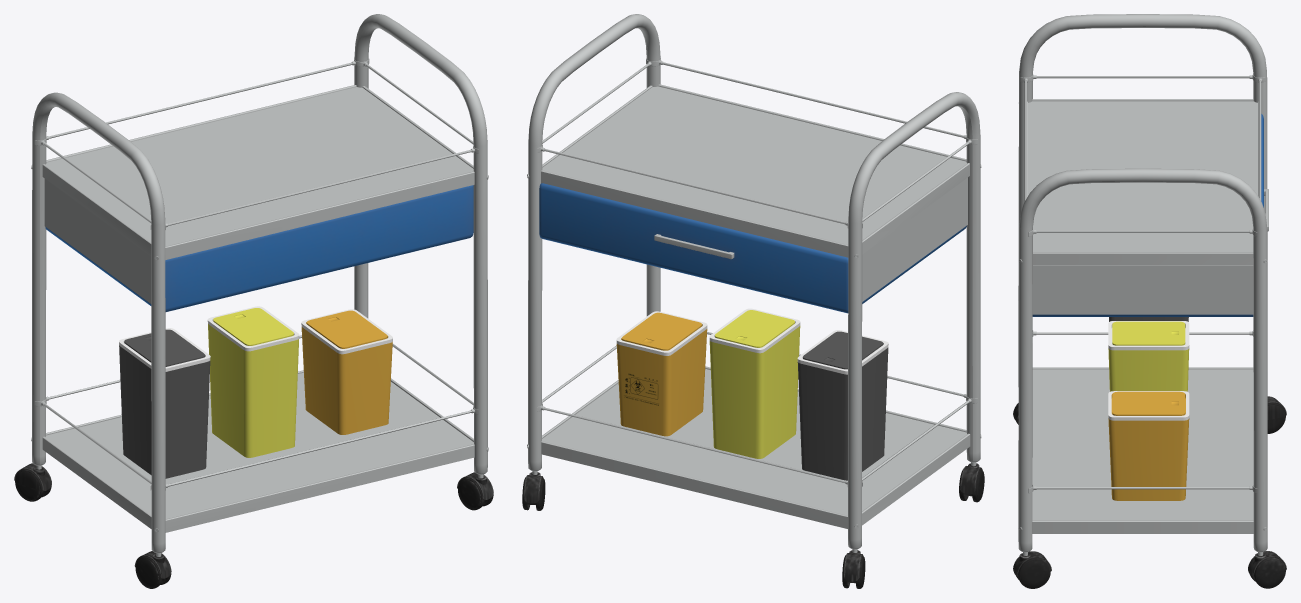
The model's file is HL_ZhiLiaoChe_BingFang.glb.
3 views of the same model, side by side, from view 1: azimuth 30°, elevation 25°; view 2: azimuth 150°, elevation 25°; view 3: azimuth 270°, elevation 25° (orthographic).
Visible parts, largest first — view 1: HL_ZhiLiaoChe05, HL_ZhiLiaoChe03, HL_ZhiLiaoChe04, HL_ZhiLiaoChe02; view 2: HL_ZhiLiaoChe05, HL_ZhiLiaoChe03, HL_ZhiLiaoChe04, HL_ZhiLiaoChe02; view 3: HL_ZhiLiaoChe05, HL_ZhiLiaoChe02, HL_ZhiLiaoChe03.
Boxes of the visible parts, bbox=[...] form: HL_ZhiLiaoChe05: bbox=[14, 14, 493, 588]; HL_ZhiLiaoChe03: bbox=[207, 306, 299, 457]; HL_ZhiLiaoChe04: bbox=[119, 328, 210, 478]; HL_ZhiLiaoChe02: bbox=[301, 309, 392, 434]; HL_ZhiLiaoChe05: bbox=[522, 14, 984, 588]; HL_ZhiLiaoChe03: bbox=[709, 308, 800, 458]; HL_ZhiLiaoChe04: bbox=[797, 330, 888, 480]; HL_ZhiLiaoChe02: bbox=[616, 311, 707, 436]; HL_ZhiLiaoChe05: bbox=[1013, 14, 1286, 588]; HL_ZhiLiaoChe02: bbox=[1108, 391, 1189, 500]; HL_ZhiLiaoChe03: bbox=[1108, 321, 1189, 391].
Bounding box in the file's own units: 0.6545 × 0.7635 × 0.4539.
8 materials, 4 textured.
